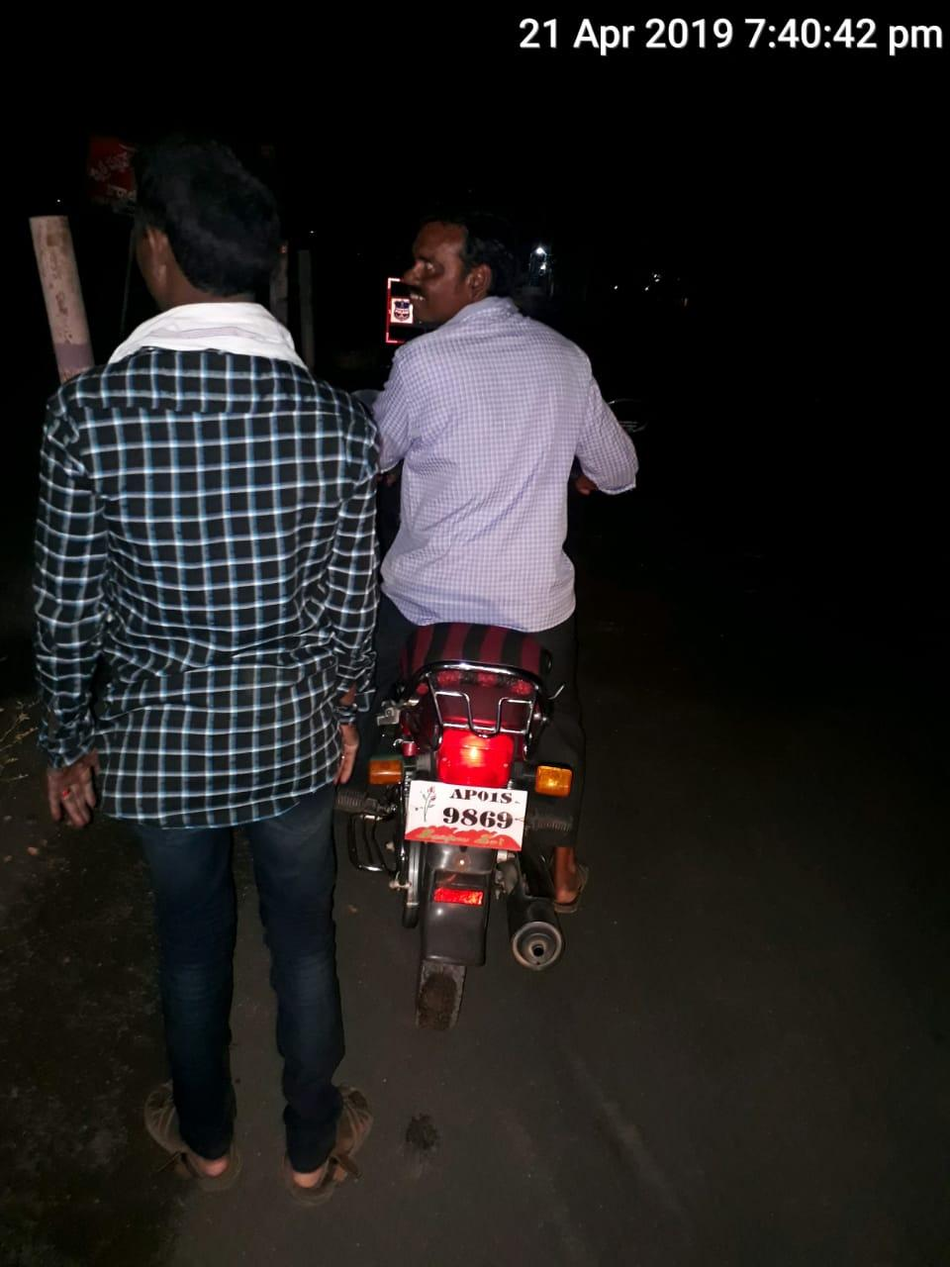plate: (391, 761, 539, 879)
